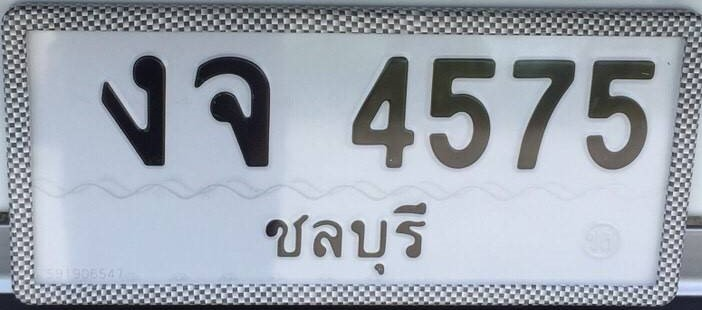txt05: (98, 52, 170, 169)
txt06: (192, 52, 274, 171)
